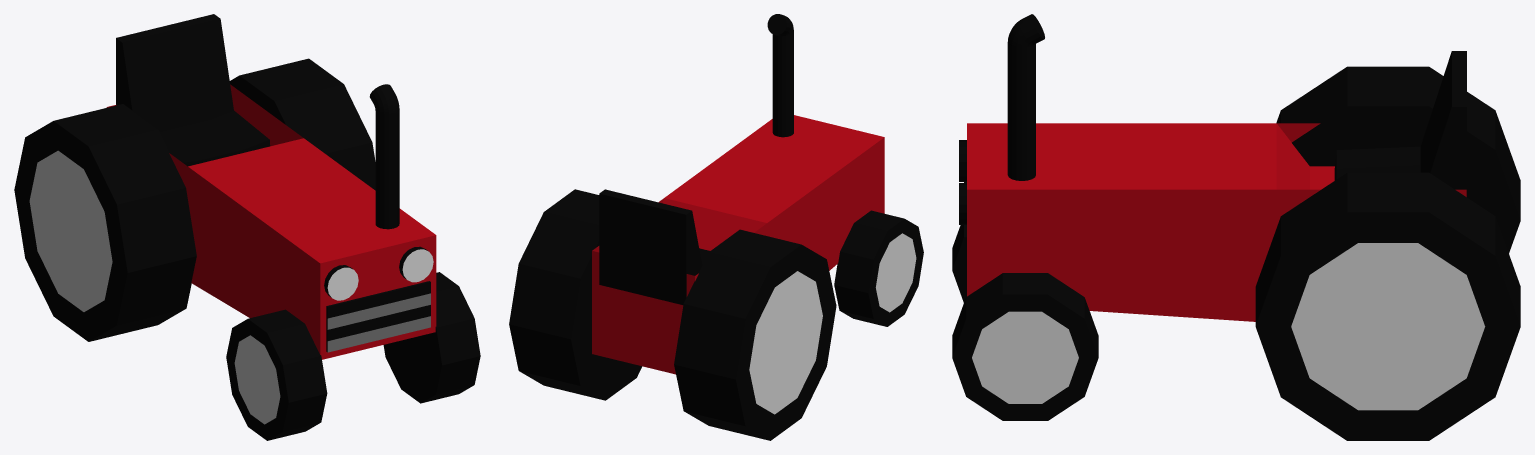
Rendered from tracteur.fbx.
3 renders of one model, left to right at view 1: azimuth 30°, elevation 25°; view 2: azimuth 150°, elevation 25°; view 3: azimuth 270°, elevation 25°, orthographic. The views are drawn at different scales.
Visible parts, largest first — view 1: pneu arr 1, Cube, siège, pneu ava 1, pneu arr 2, pneu ava 2, Cube.001, Cylinder, phare 1, phare 2; view 2: Cube, pneu arr 1, pneu arr 2, siège, pneu ava 1, Cylinder; view 3: pneu arr 2, Cube, pneu ava 2, pneu arr 1, siège, Cylinder, pneu ava 1.
Boxes of the visible parts, x1,y1,x2,y2 form: pneu arr 1: (14,104,196,341); Cube: (106,84,436,359); siège: (116,14,270,166); pneu ava 1: (226,309,327,440); pneu arr 2: (229,58,375,190); pneu ava 2: (383,272,480,403); Cube.001: (326,281,430,352); Cylinder: (369,84,399,229); phare 1: (324,265,358,300); phare 2: (399,246,433,282); Cube: (592,115,884,374); pneu arr 1: (674,229,836,440); pneu arr 2: (509,189,642,400); siège: (599,189,709,304); pneu ava 1: (834,210,923,326); Cylinder: (767,14,793,137); pneu arr 2: (1255,172,1520,440); Cube: (967,123,1466,321); pneu ava 2: (952,273,1098,420); pneu arr 1: (1276,66,1520,253); siège: (1334,51,1466,196); Cylinder: (1007,14,1044,180); pneu ava 1: (952,225,966,302).
Size of the model in its own units: 260 by 309 by 429.
